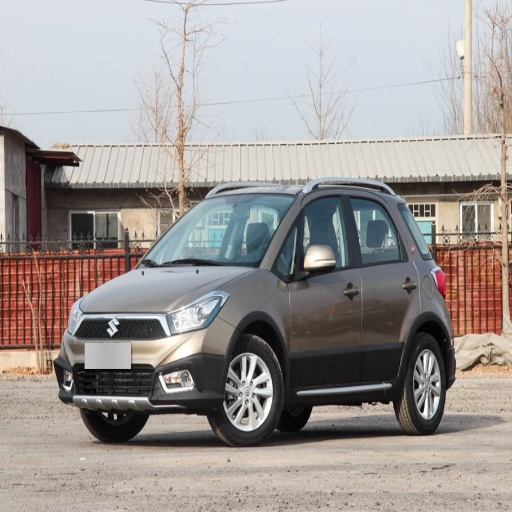back_left_door: (346, 189, 420, 382)
front_bumper: (55, 312, 234, 411)
front_glass: (142, 194, 295, 267)
front_left_door: (284, 192, 362, 388)
